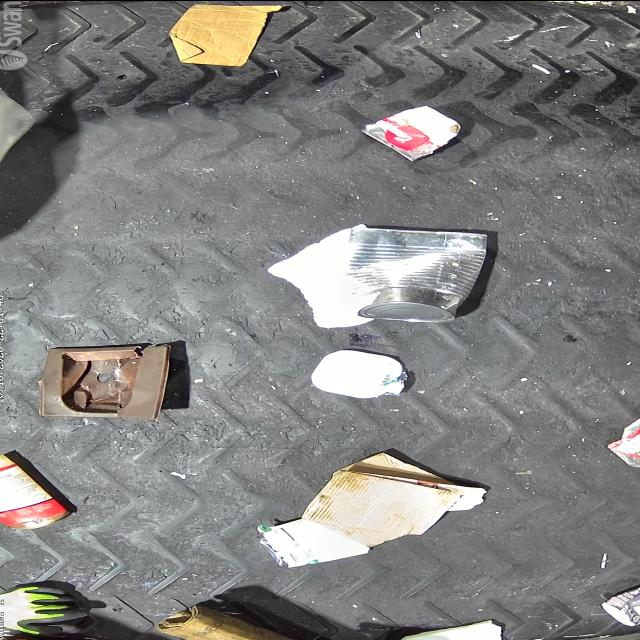can: (346, 226, 488, 322), (253, 517, 369, 567), (362, 104, 462, 160)
